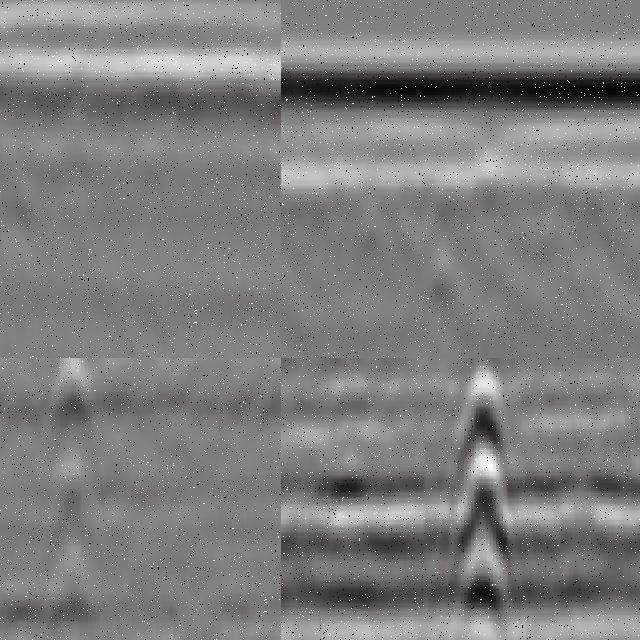crack: (441, 359, 512, 640), (46, 359, 88, 640)
loose: (1, 62, 115, 192)
